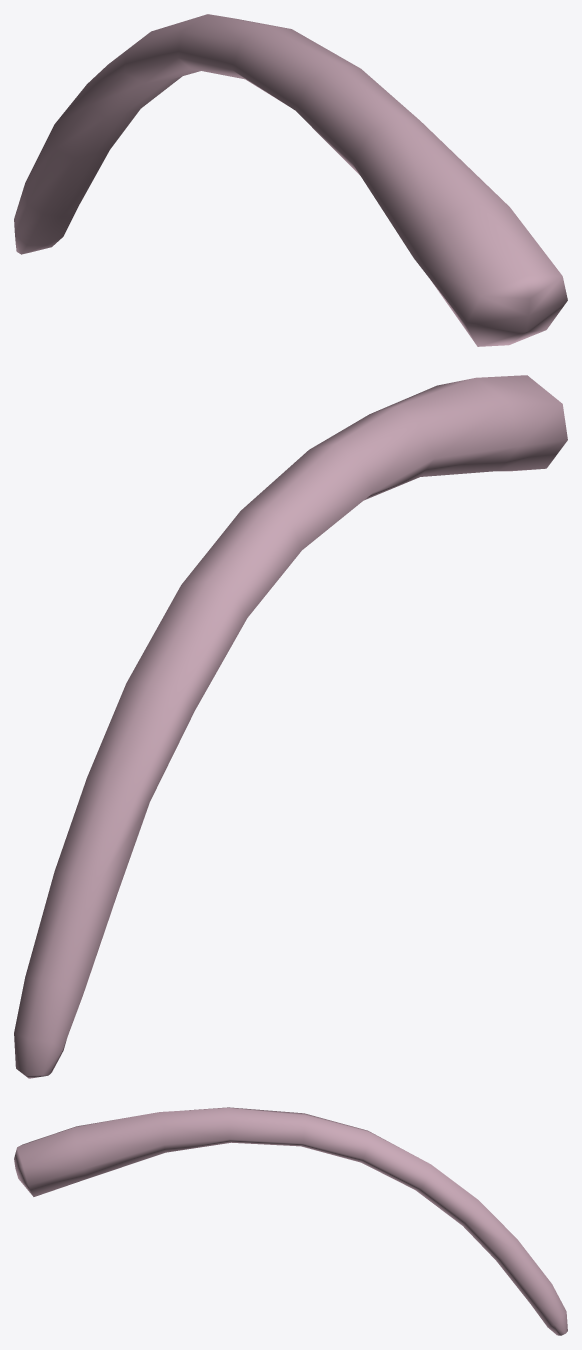
Rendered from Bone_005_2.FBX.
3 views of the same model, one above another, from view 1: azimuth 30°, elevation 25°; view 2: azimuth 150°, elevation 25°; view 3: azimuth 270°, elevation 25° (orthographic). The views are drawn at different scales.
Parts seen in each view (by area): view 1: Bone_005_2_LOD0; view 2: Bone_005_2_LOD0; view 3: Bone_005_2_LOD0.
Boxes of the visible parts, x1=… form: Bone_005_2_LOD0: x1=14, y1=14, x2=567, y2=346; Bone_005_2_LOD0: x1=14, y1=375, x2=567, y2=1078; Bone_005_2_LOD0: x1=14, y1=1107, x2=567, y2=1335.
Bounding box in the file's own units: 19.9 × 164 × 73.6.
